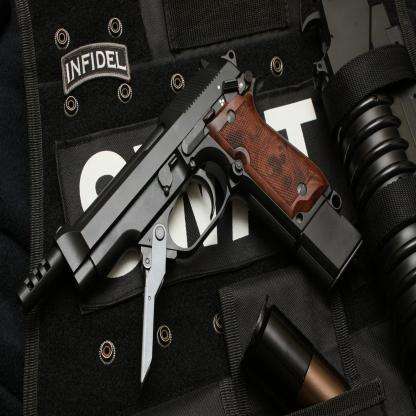handgun: (21, 51, 362, 306)
